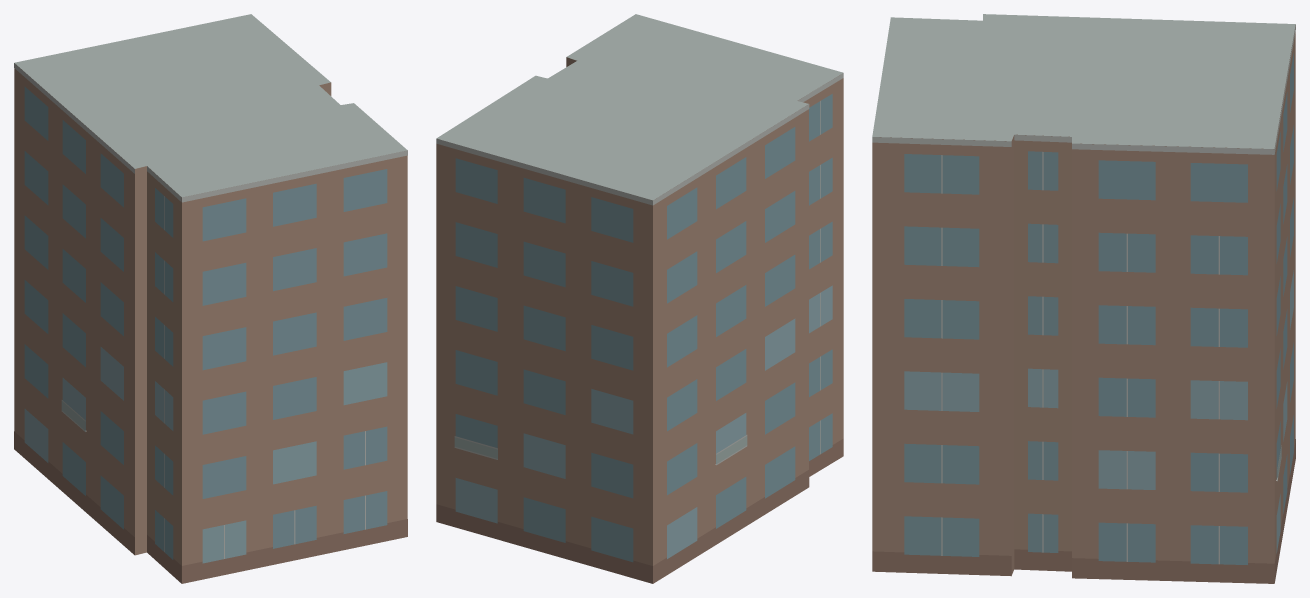
Rendered from survey-upis-32542785.glb.
The picture shows the model from 3 angles, left to right: view 1: azimuth 30°, elevation 25°; view 2: azimuth 150°, elevation 25°; view 3: azimuth 270°, elevation 25°; orthographic projection. The views are drawn at different scales.
Parts seen in each view (by area): view 1: survey-upis-32542785.tmp; view 2: survey-upis-32542785.tmp; view 3: survey-upis-32542785.tmp.
Boxes of the visible parts, <box> form: survey-upis-32542785.tmp: <box>14,14,407,583</box>; survey-upis-32542785.tmp: <box>436,14,843,583</box>; survey-upis-32542785.tmp: <box>872,14,1295,583</box>.
Bounding box in the file's own units: 12.2 × 18.3 × 16.17.
